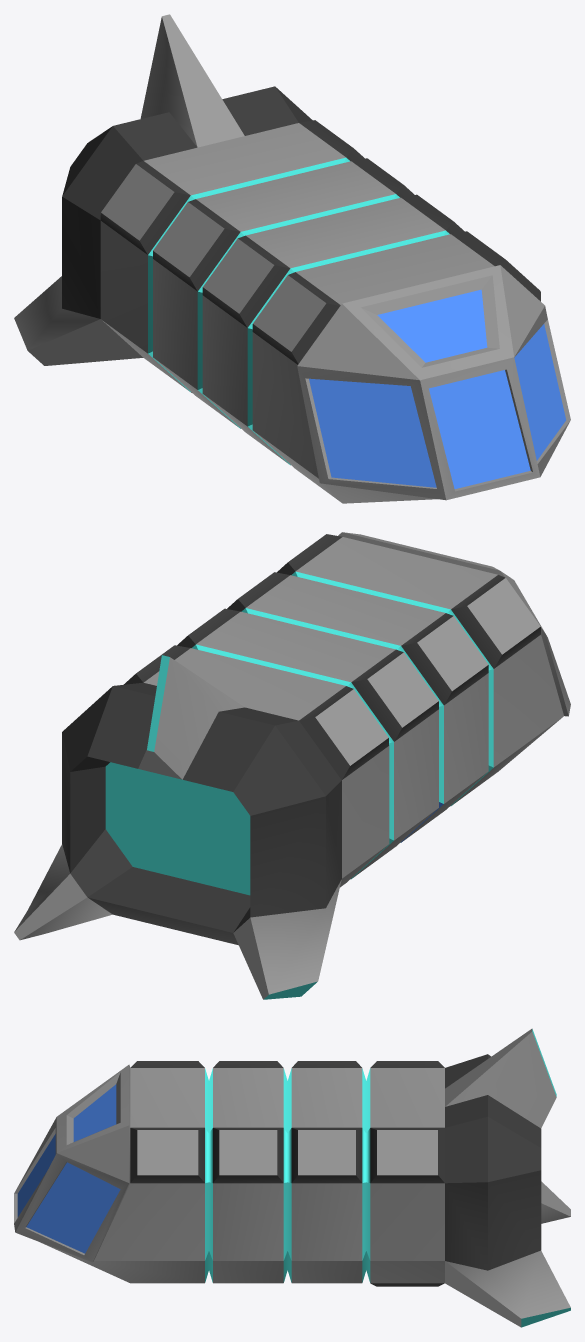
Rendered from Ship_2x4_B2.fbx.
3 renders of one model, top to bottom at view 1: azimuth 30°, elevation 25°; view 2: azimuth 150°, elevation 25°; view 3: azimuth 270°, elevation 25°, orthographic. The views are drawn at different scales.
Visible parts, largest first — view 1: Ship_2x4_B2; view 2: Ship_2x4_B2; view 3: Ship_2x4_B2.
Part boxes in pixels (x1,y1,x2,y2): Ship_2x4_B2: (14, 14, 570, 503); Ship_2x4_B2: (14, 532, 570, 999); Ship_2x4_B2: (14, 1028, 570, 1327).
Bounding box in the file's own units: 177 × 183 × 373.
